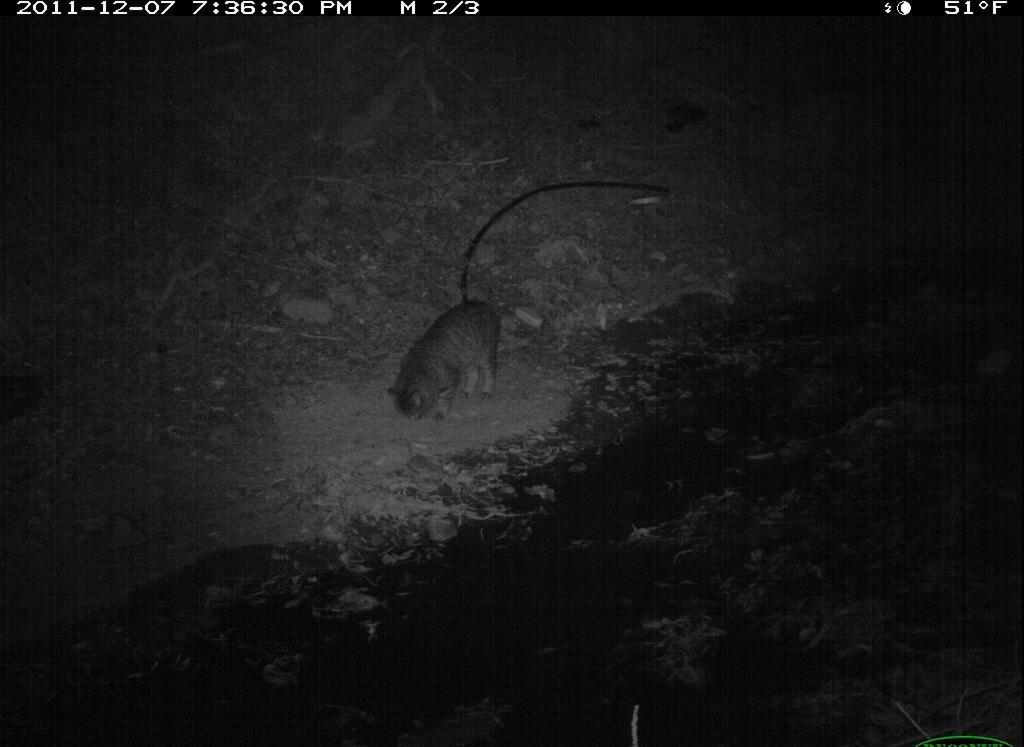cat: (387, 289, 510, 431)
